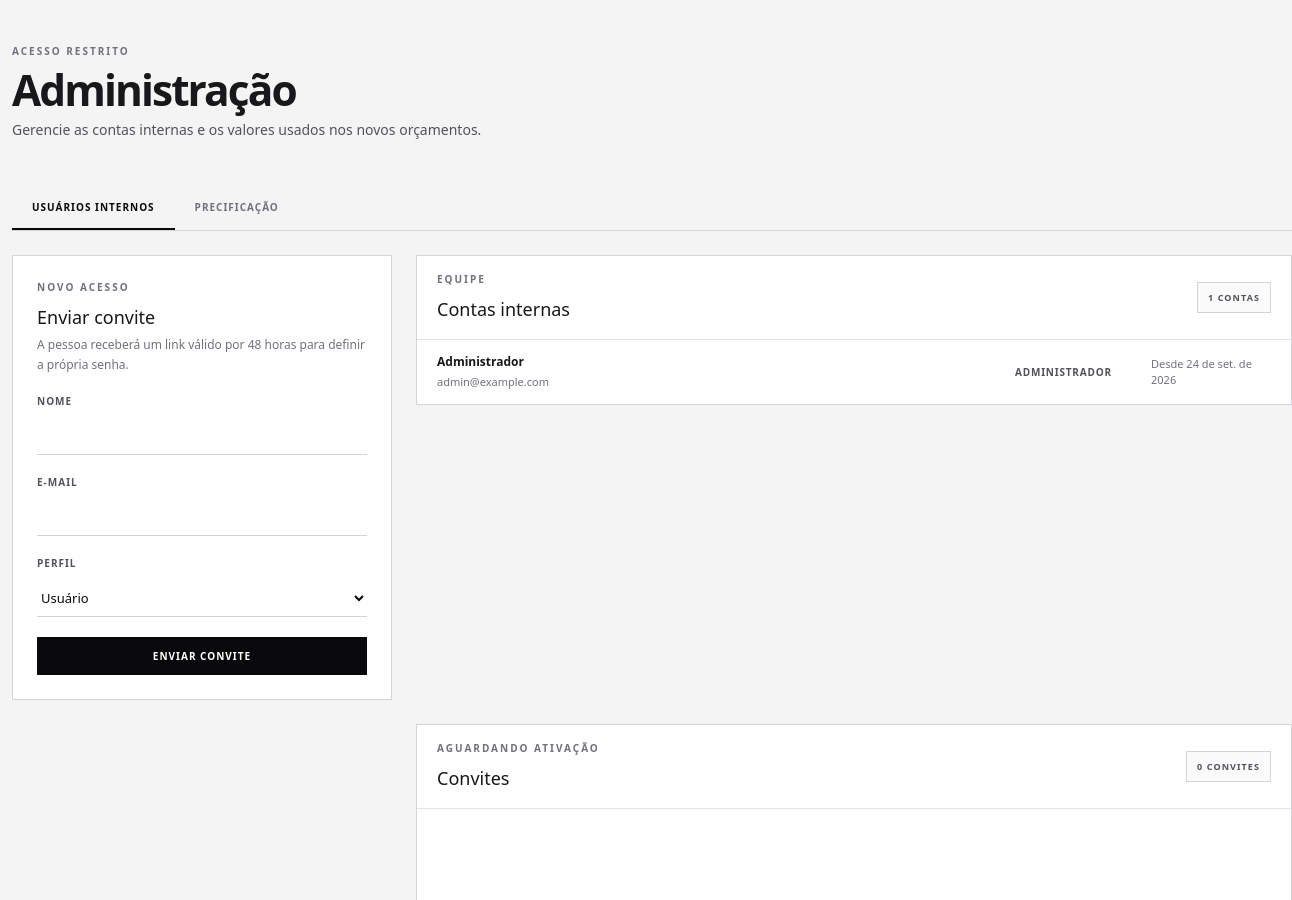
AdministrationPage › edita um valor de precificação na mesma área administrativa
Click the tab "Precificação".
click(237, 208)  # box [175,186,299,230]
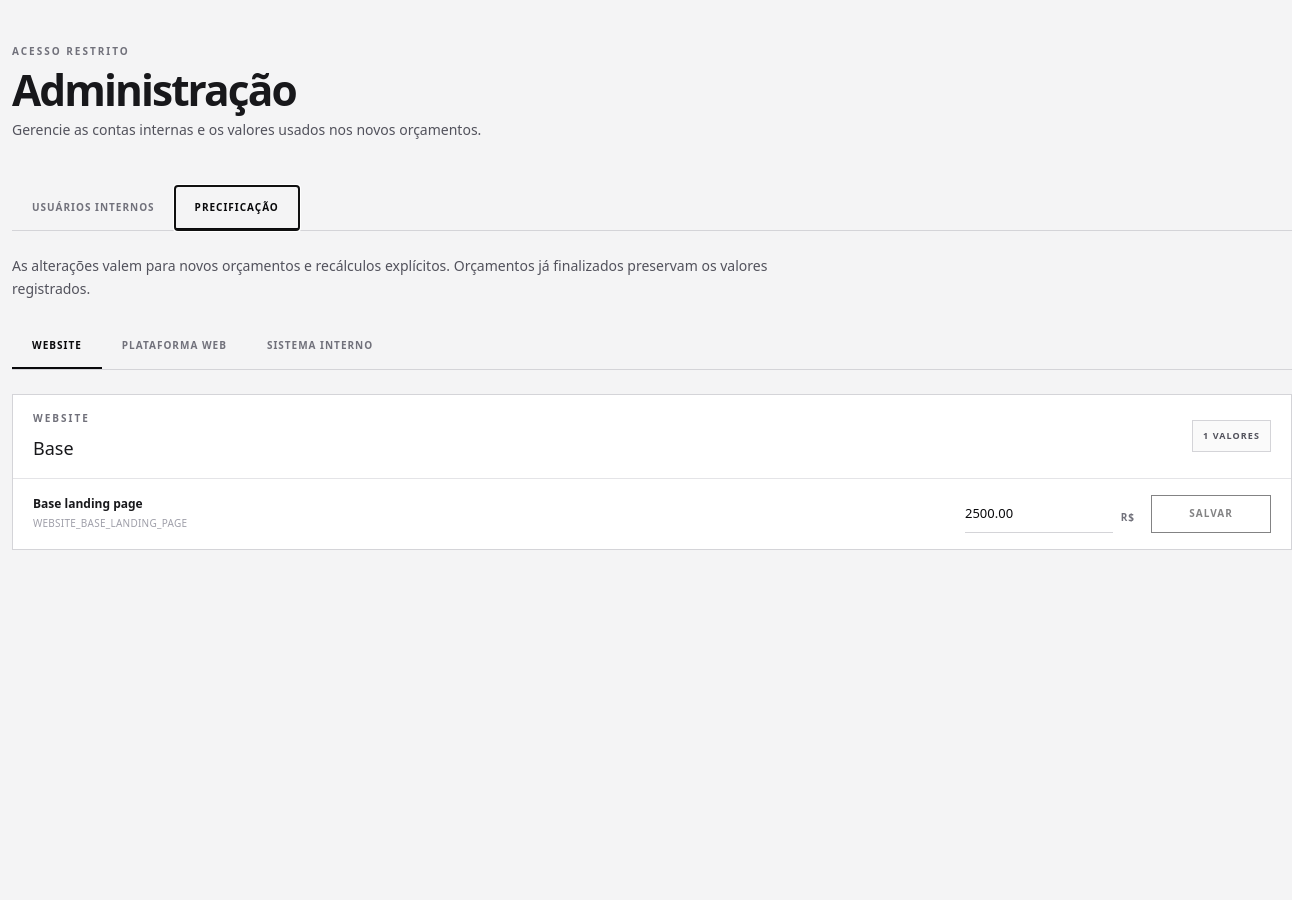
Replace the text in the number field named "Valor de Base landing page" with "3000" at (1039, 514), box [965,495,1113,533]
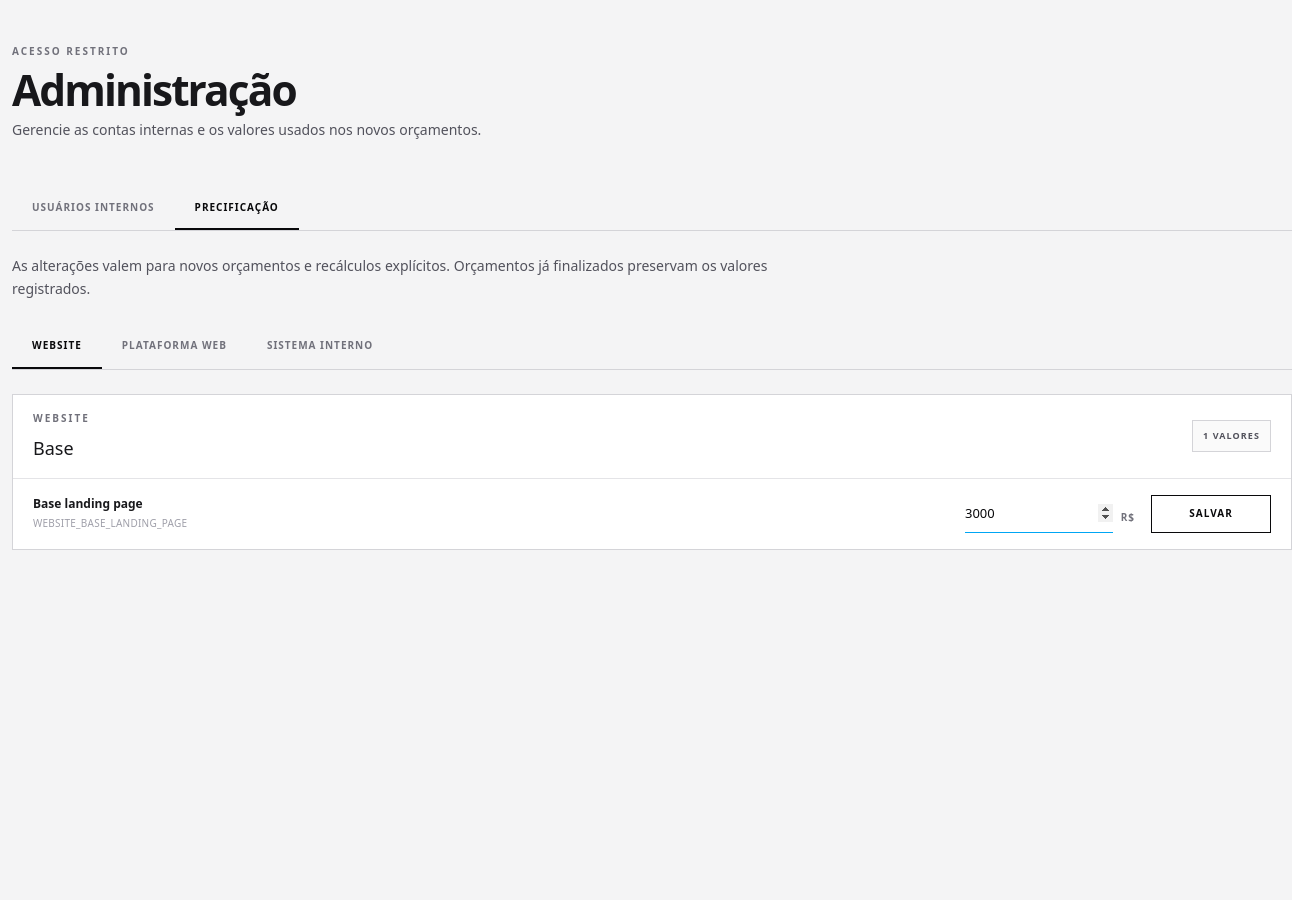
Click the button "Salvar".
click(1211, 514)  # box [1151,495,1271,533]
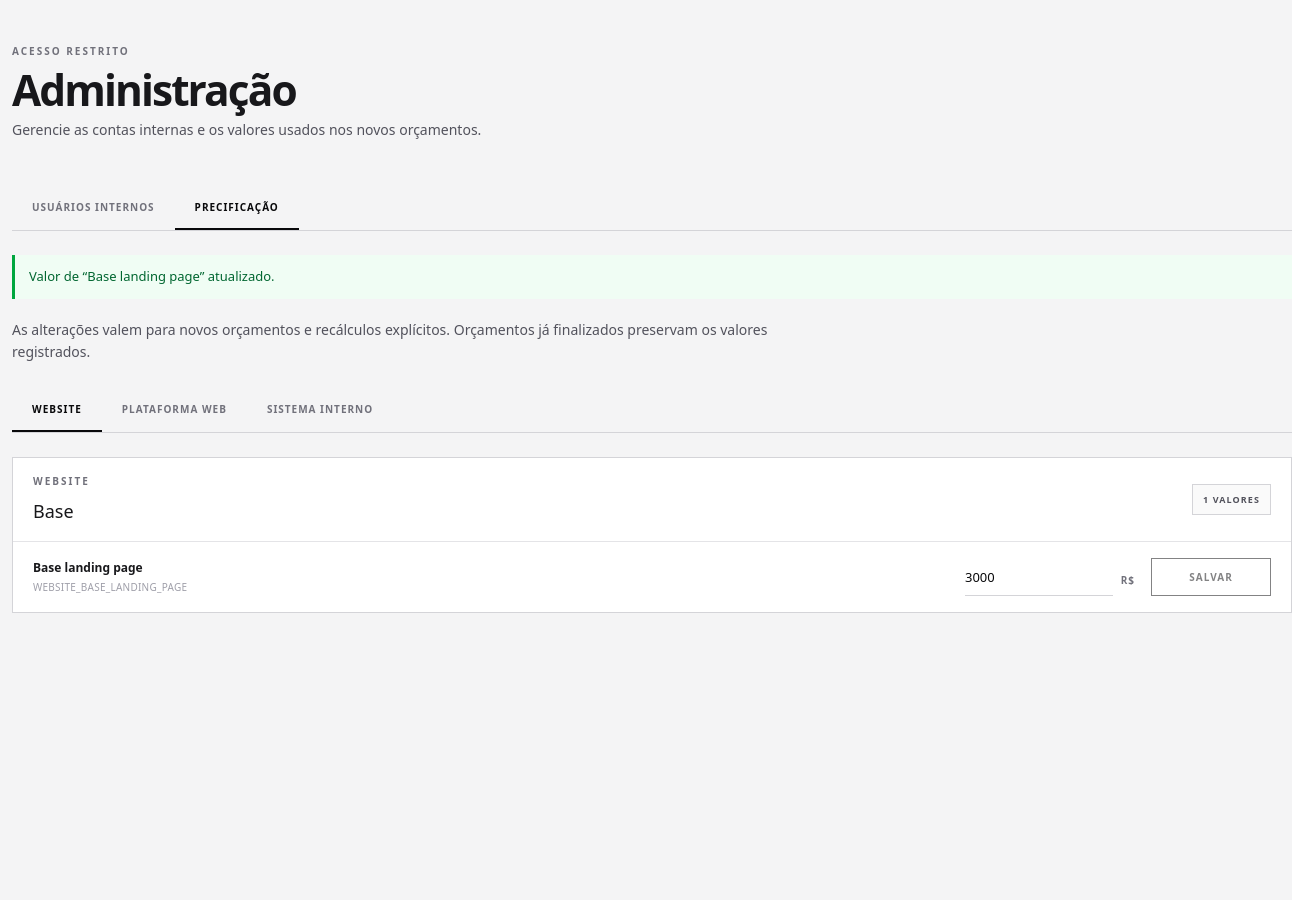
Expected: the text "Valor de “Base landing page” atualizado." is shown, [12,255,1291,299]
